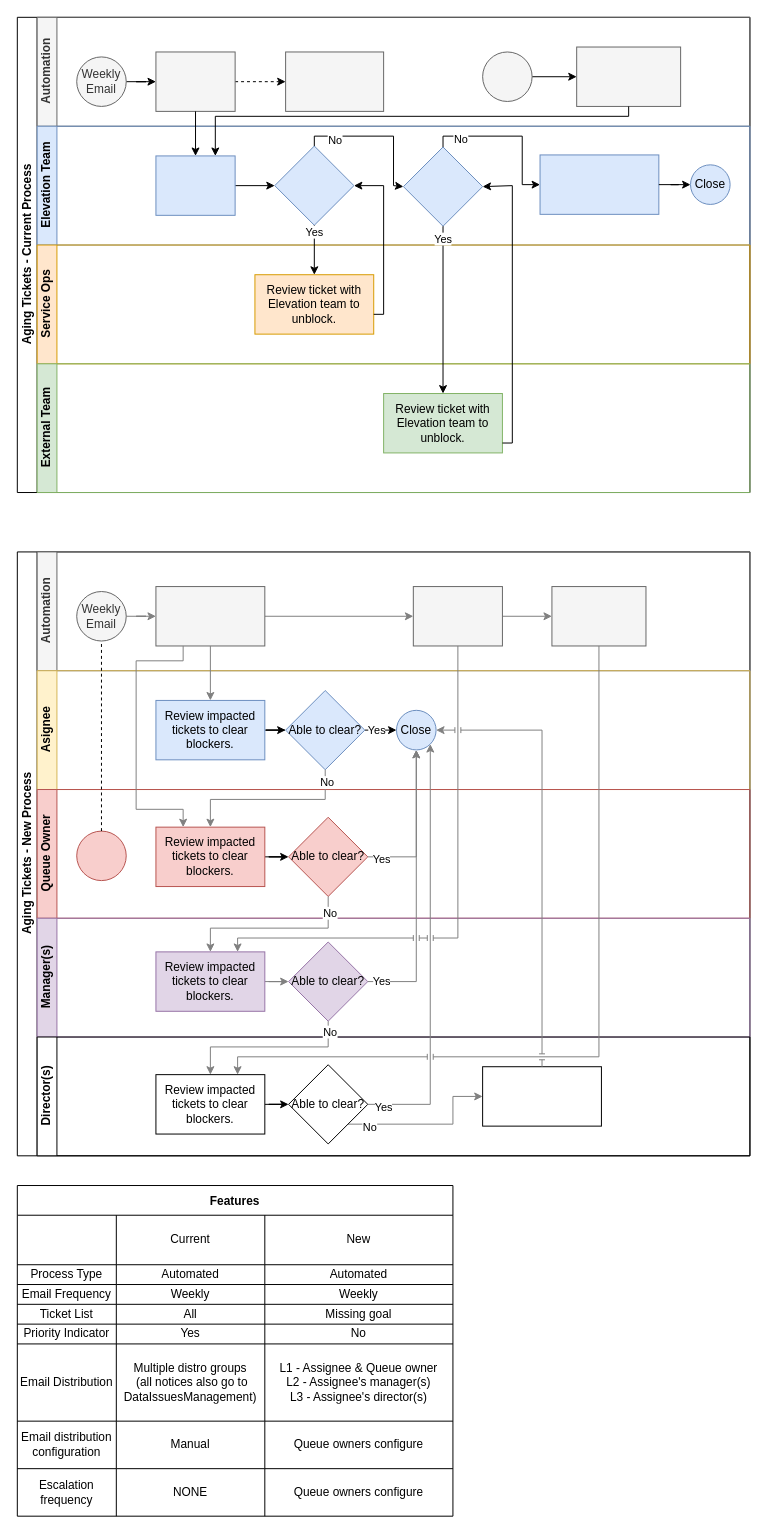
Image size: 767x1534. Some labels were removed from this diagram. The shapes that lost their labels are listed below. From the top down, each one's centre as x and y in pixels, then its label:
At (x=195, y=81): "All tickets for each project are sent via email.".
At (x=334, y=81): "If any ticket is over 7 days, the manager is CC'd".
At (x=507, y=76): "Daily Email".
At (x=628, y=76): "All unassigned tickets sent to assigned team.".
At (x=195, y=185): "Review email".
At (x=314, y=185): "Blocked by S&O ?".
At (x=442, y=186): "Blocked by External ?".
At (x=599, y=184): "Assign resources and work ticket.".
At (x=210, y=616): "Tickets over ACE are emailed to Assignee and Queue owner.".
At (x=457, y=616): "Tickets over L2 ACE are emailed to Manager(s)".
At (x=598, y=616): "Tickets over L3 ACE are emailed to Director(s)".
At (x=101, y=855): "Set ACE Goal".
At (x=541, y=1096): "Work with upstream team to cancel or escalate ticket.".
